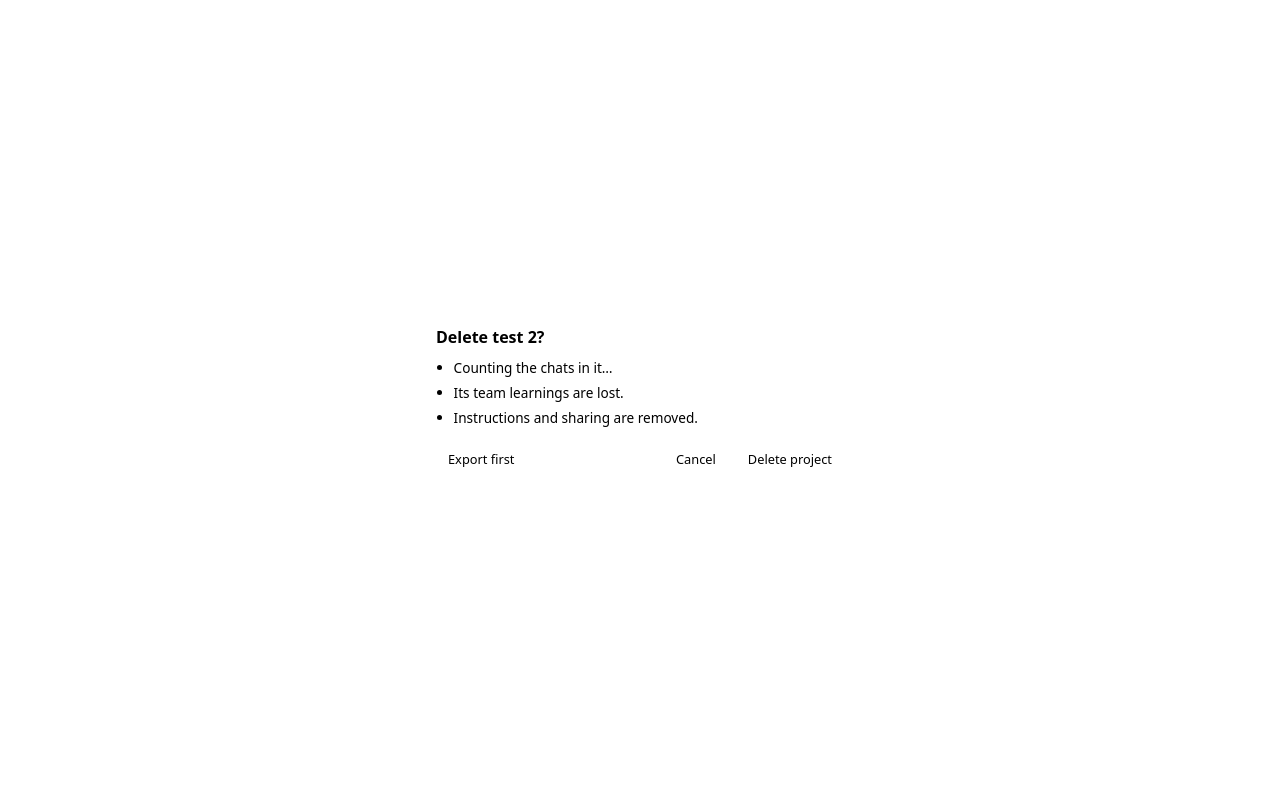
Scenario: DeleteProjectConfirmDialog › holds Delete project until the counts land
This screenshot has width=1280, height=800.
Click the button "Delete project" at [790, 460], box 736,444 -> 844,475
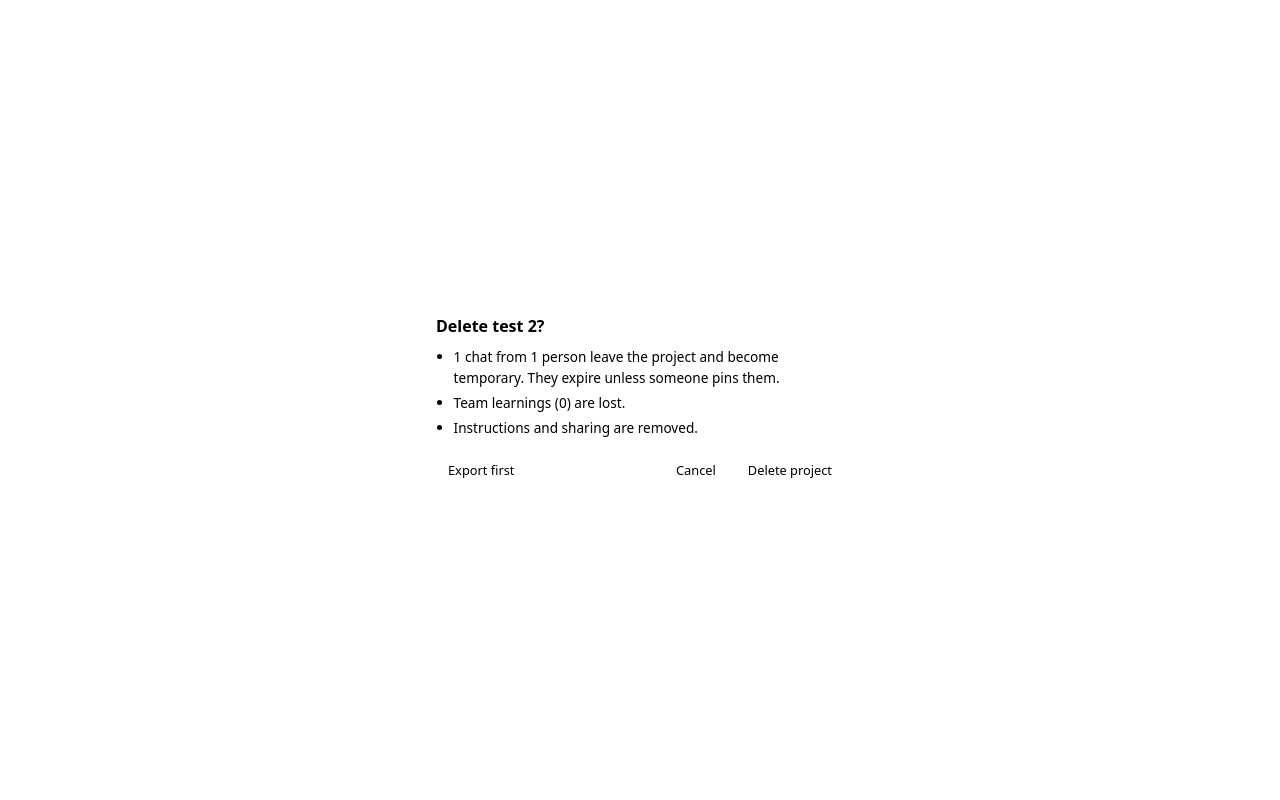
Expected: the button "Delete project" is enabled, 736,454 -> 844,486
